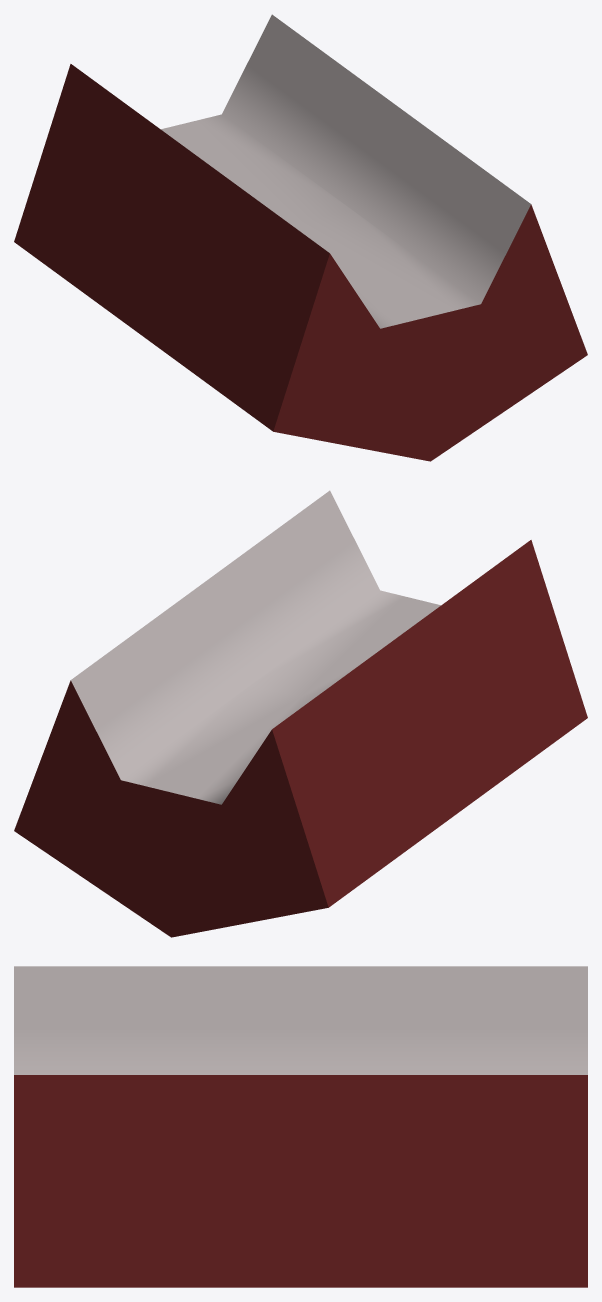
File: Pipe.fbx
The picture shows the model from 3 angles, top to bottom: view 1: azimuth 30°, elevation 25°; view 2: azimuth 150°, elevation 25°; view 3: azimuth 270°, elevation 25°; orthographic projection. The views are drawn at different scales.
Parts seen in each view (by area): view 1: pCylinder1; view 2: pCylinder1; view 3: pCylinder1.
Boxes of the visible parts, x1=… form: pCylinder1: x1=14, y1=14, x2=587, y2=461; pCylinder1: x1=14, y1=490, x2=587, y2=937; pCylinder1: x1=14, y1=966, x2=587, y2=1287.
Size of the model in its own units: 31.62 by 22.36 by 45.12.
